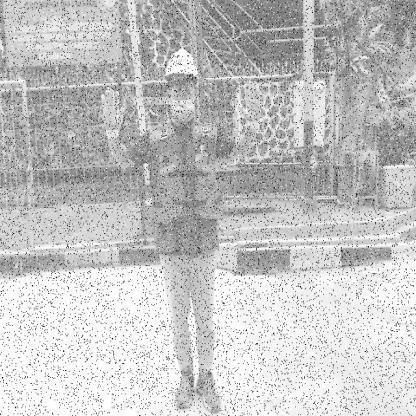boots: (196, 370, 222, 413), (174, 368, 195, 408)
gloves: (237, 79, 264, 131), (100, 87, 124, 142)
goggles: (170, 79, 194, 91)
helmet: (164, 48, 200, 80)
mask: (171, 100, 196, 122)
vest: (150, 152, 224, 224)
